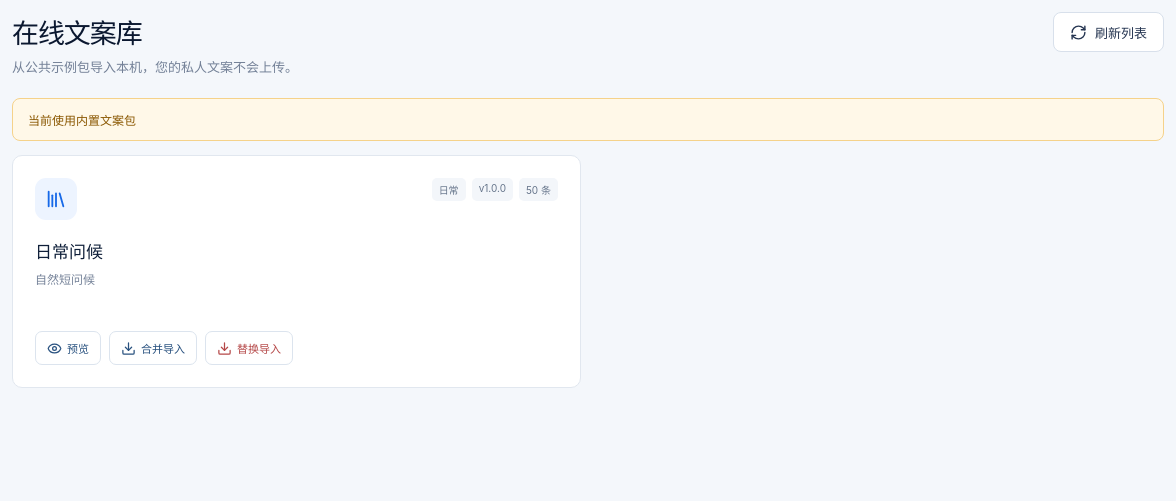
Test: merge import reports structured result
Expected: the heading "日常问候" is shown, top-left (35, 242), bottom-right (103, 262)
Click the button "合并导入" at (153, 348), box top-left (109, 331), bottom-right (197, 365)
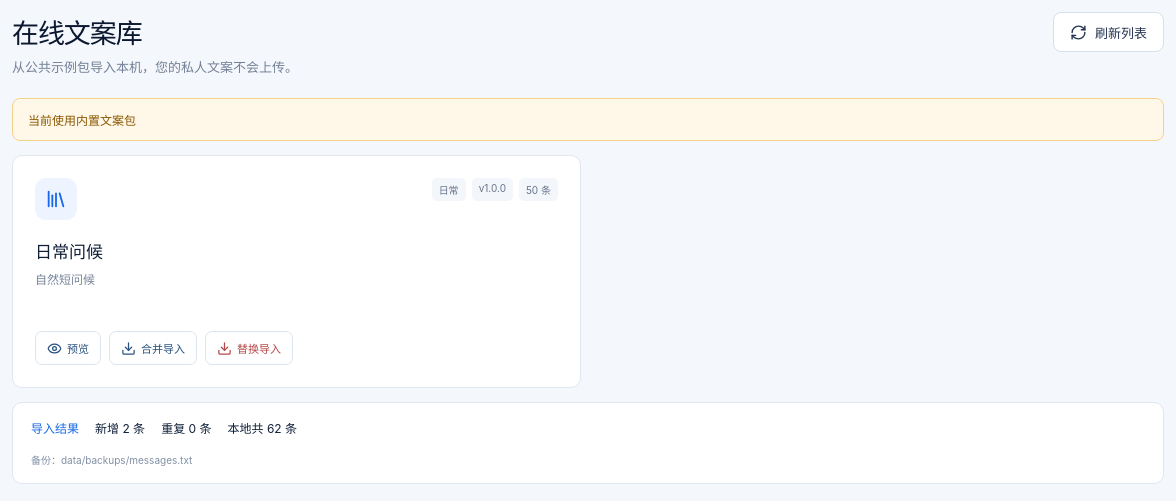
Expected: the text "新增 2 条" is shown, top-left (95, 419), bottom-right (145, 436)
Expected: the text "本地共 62 条" is shown, top-left (228, 419), bottom-right (297, 436)
